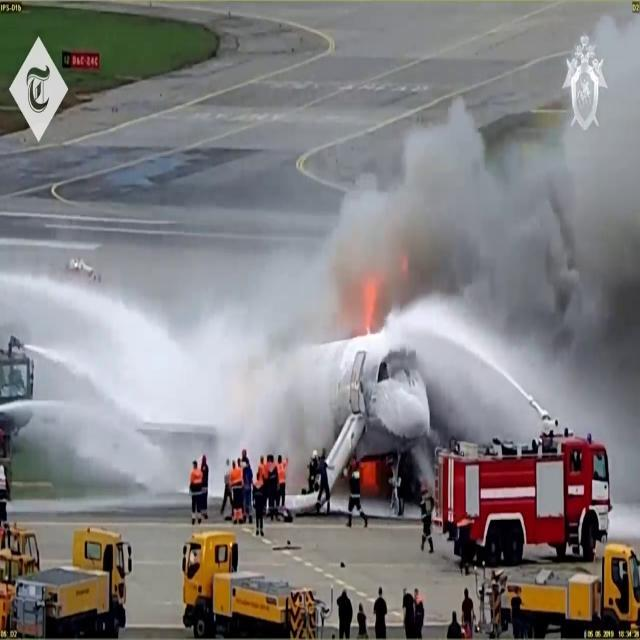Smoke: (328, 60, 640, 354)
